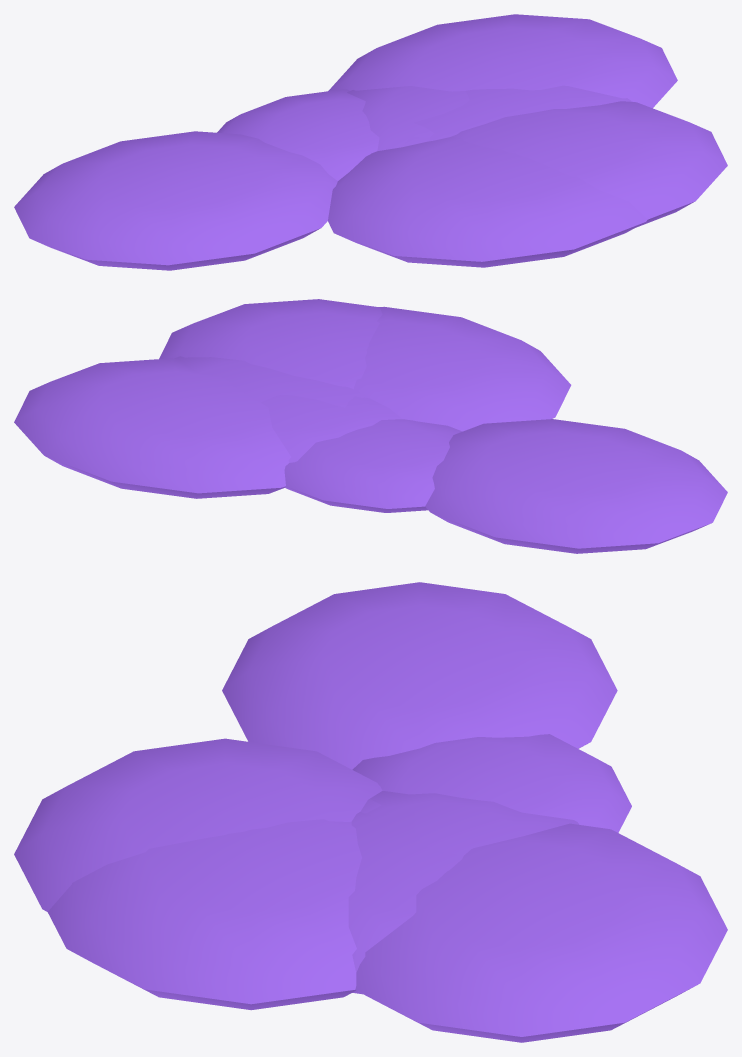
Rendered from FX_Purple_Mist.fbx.
The picture shows the model from 3 angles, top to bottom: view 1: azimuth 30°, elevation 25°; view 2: azimuth 150°, elevation 25°; view 3: azimuth 270°, elevation 25°; orthographic projection. The views are drawn at different scales.
Parts seen in each view (by area): view 1: FX_Purple_Mist_Mesh; view 2: FX_Purple_Mist_Mesh; view 3: FX_Purple_Mist_Mesh.
Boxes of the visible parts, left/top/right/bottom form: FX_Purple_Mist_Mesh: left=14, top=14, right=727, bottom=270; FX_Purple_Mist_Mesh: left=14, top=299, right=727, bottom=553; FX_Purple_Mist_Mesh: left=14, top=582, right=727, bottom=1042.
Size of the model in its own units: 3.48 by 0.3005 by 2.33.
